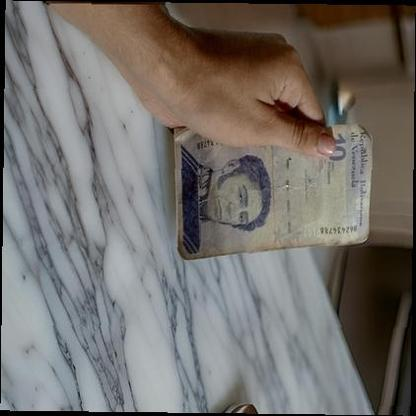ten-front-vef: (171, 122, 372, 260)
